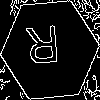R: (25, 25, 62, 74)
